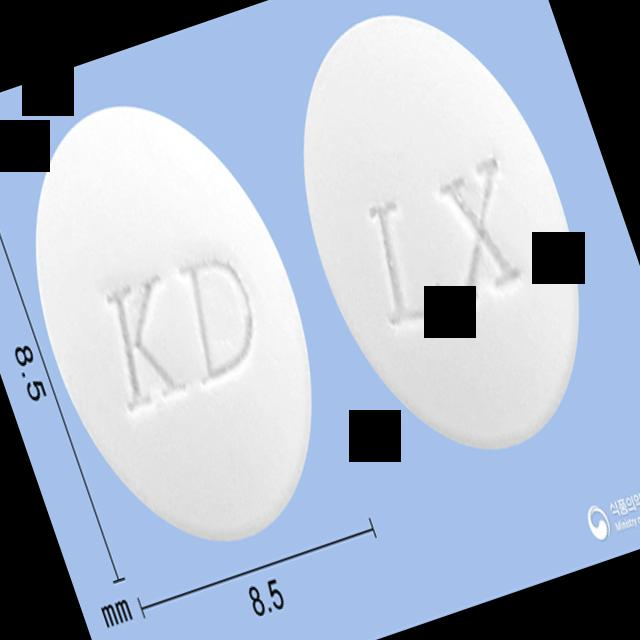Lefoxin: (0, 65, 364, 577), (251, 0, 630, 486)
